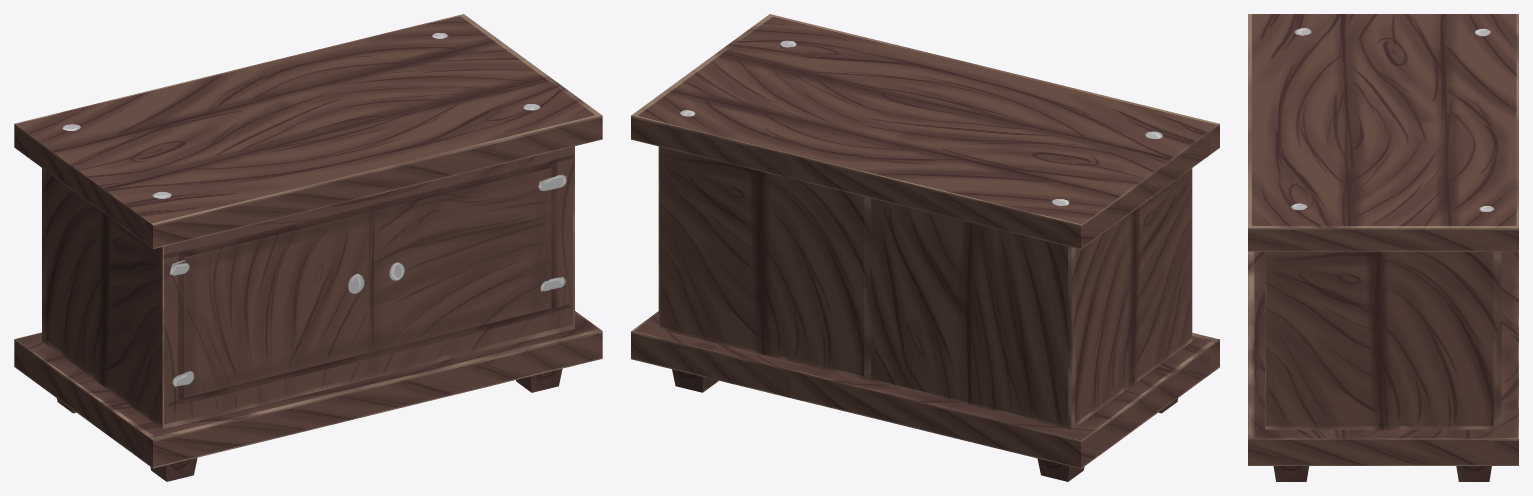
File: closet_small.glb
The picture shows the model from 3 angles, left to right: view 1: azimuth 30°, elevation 25°; view 2: azimuth 150°, elevation 25°; view 3: azimuth 270°, elevation 25°; orthographic projection. The views are drawn at different scales.
Parts seen in each view (by area): view 1: closet_small; view 2: closet_small; view 3: closet_small.
Boxes of the visible parts, <box> form: closet_small: <box>14,14,602,481</box>; closet_small: <box>631,14,1219,481</box>; closet_small: <box>1248,14,1518,481</box>.
Bounding box in the file's own units: 1.21 × 0.7036 × 0.6447.
Materials: 1 (1 with a texture image).
